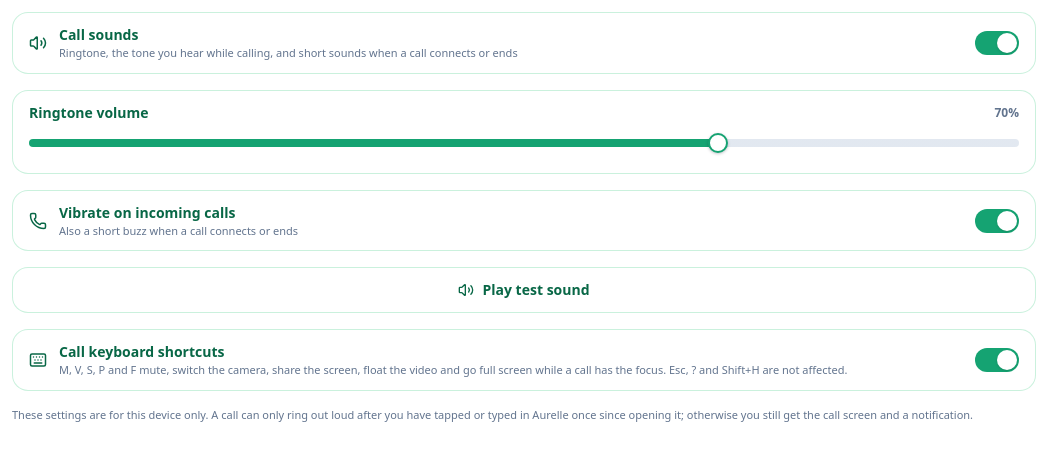
it: the Call sounds settings › says so when the browser would not play it
Click the button "Play test sound": [524, 290] box [12,267,1036,313]
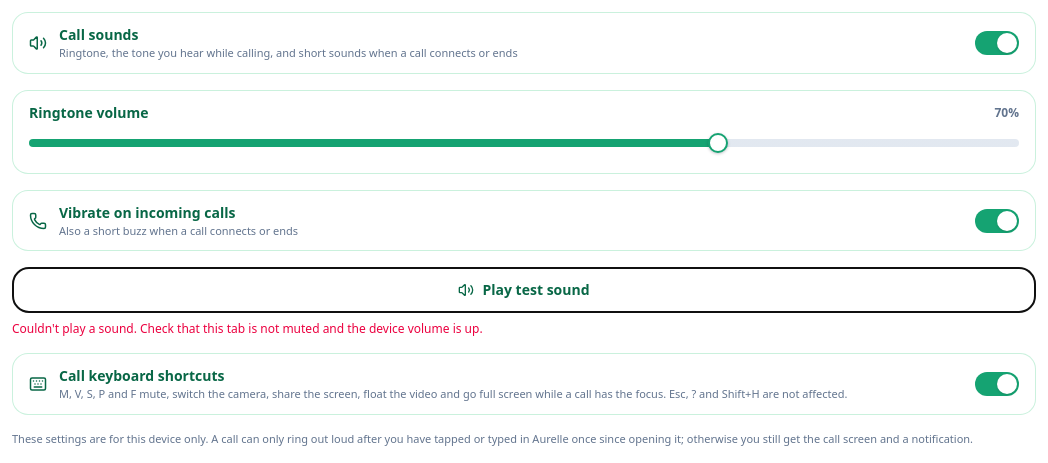
Result: the message shows "play a sound" at [12,320,483,337]
Click the button "Play test sound": [524, 290] box [12,267,1036,313]
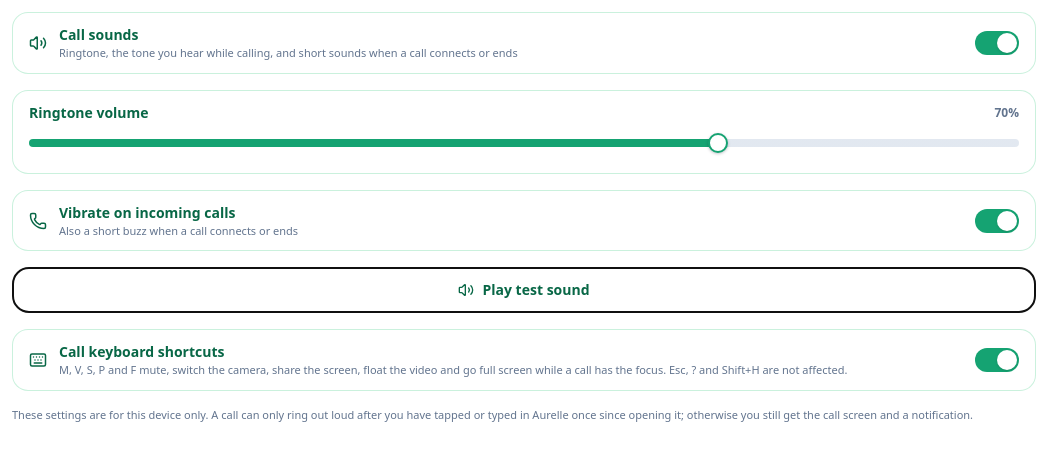
Result: the message is gone
